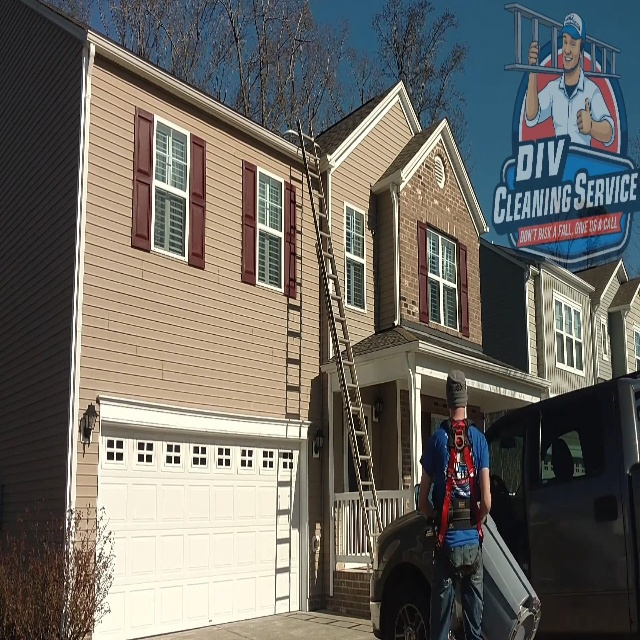Arnes_seguridad: (427, 411, 486, 593)
